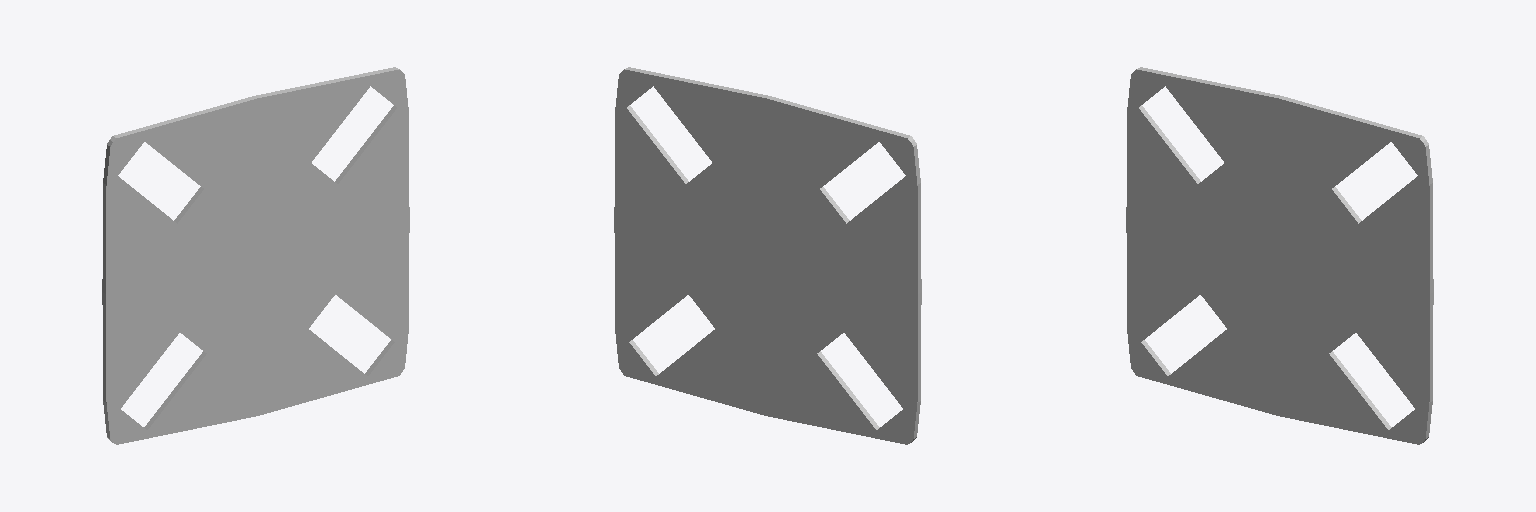
Rendered from chassis.obj.
3 renders of one model, left to right at view 1: azimuth 30°, elevation 25°; view 2: azimuth 150°, elevation 25°; view 3: azimuth 330°, elevation 25°, orthographic.
Visible parts, largest first — view 1: Cut009; view 2: Cut009; view 3: Cut009.
Part boxes in pixels (bbox=[...]): Cut009: bbox=[102, 67, 409, 444]; Cut009: bbox=[614, 67, 921, 444]; Cut009: bbox=[1126, 67, 1433, 444].
Bounding box in the file's own units: 100 × 100 × 2.